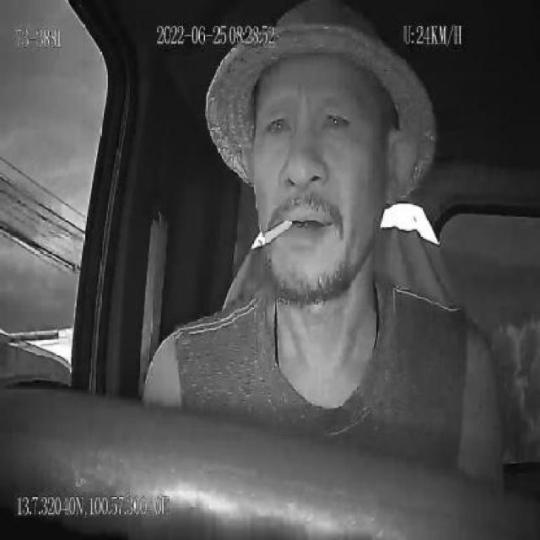smoking: (259, 218, 293, 250)
